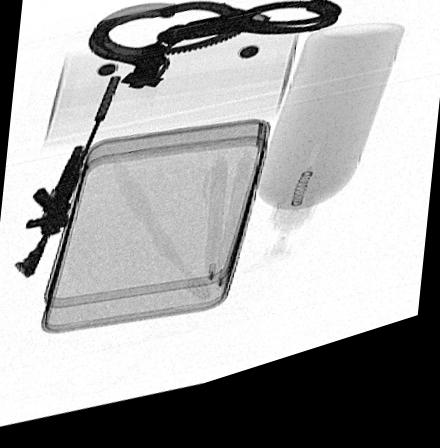Bullet: (236, 24, 270, 38)
Gun: (16, 83, 120, 277)
HandCuffs: (87, 10, 344, 97)
